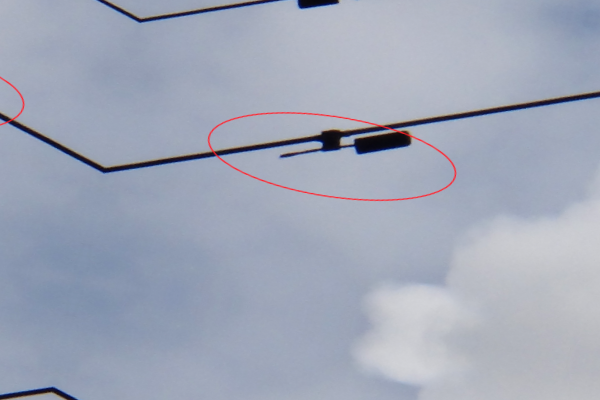damper_defect: (276, 126, 411, 161)
